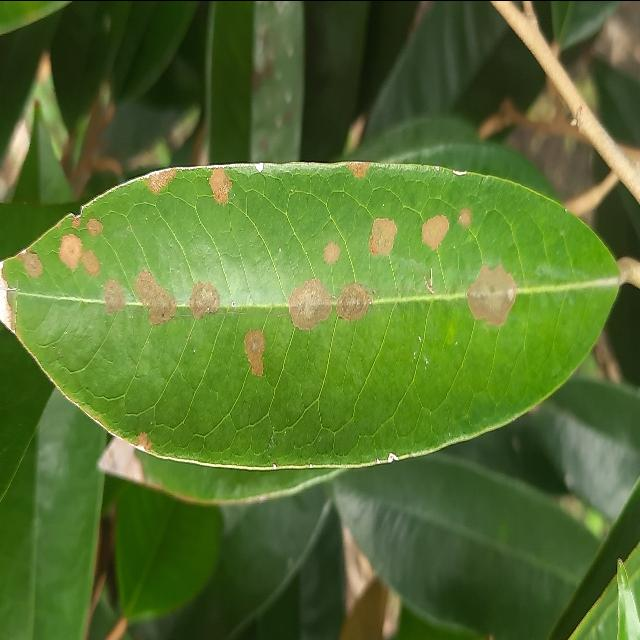Algal Leaf Spot: (0, 155, 631, 479)
